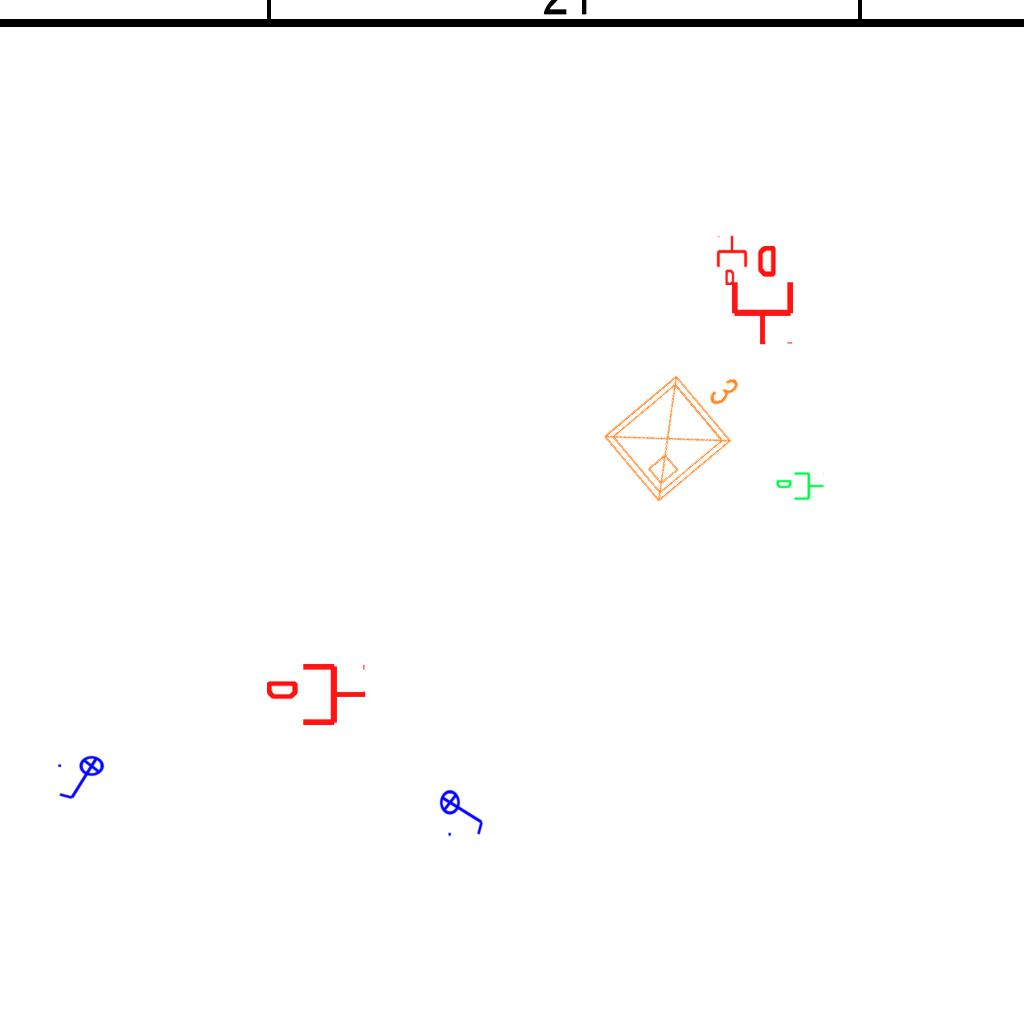Ausschalter_beleuchtet: (439, 783, 487, 839), (55, 755, 111, 803)
Datenanschluss_einfach: (267, 660, 367, 729), (728, 246, 797, 346), (775, 470, 825, 504), (715, 235, 749, 285)
Einbaudownlights_LED_Konferenzraeume: (591, 335, 773, 513)
